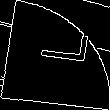L_W: (24, 36, 86, 74)
